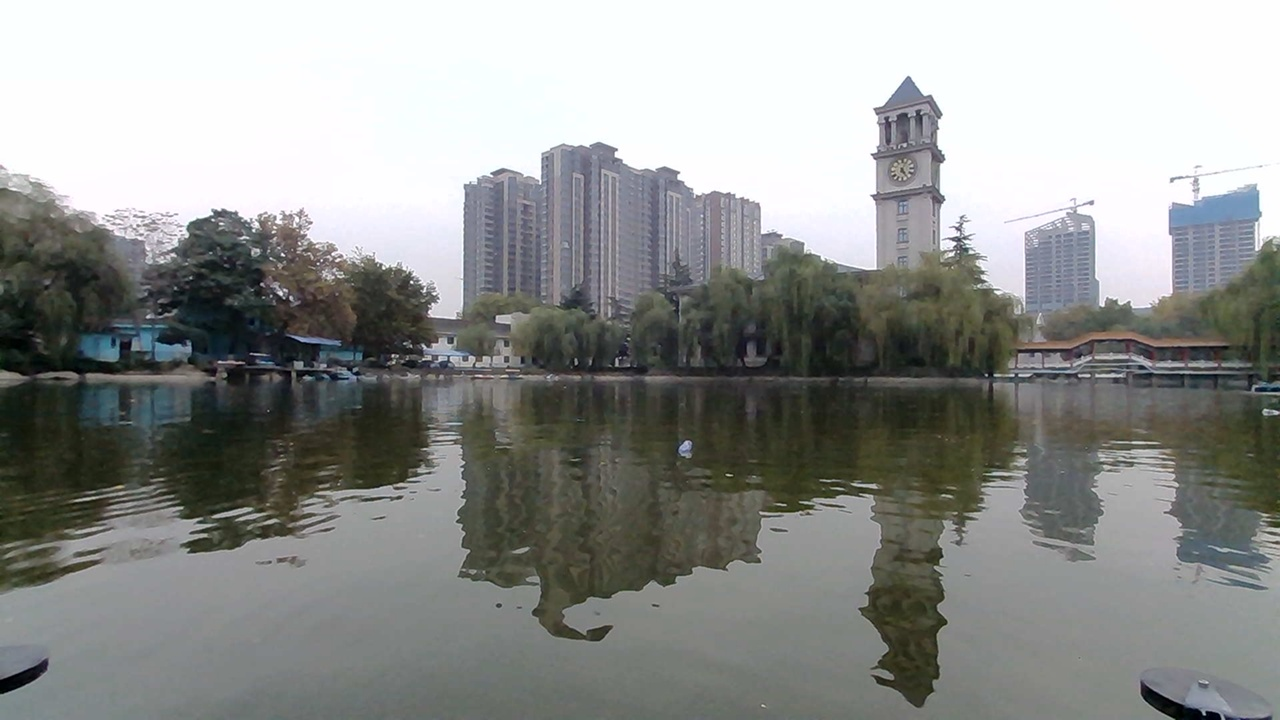bottle: (661, 434, 710, 466), (1250, 397, 1280, 425)
